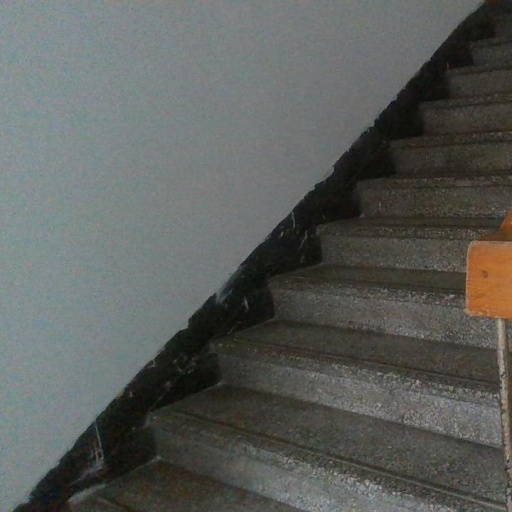Stairs: (71, 14, 512, 512)
